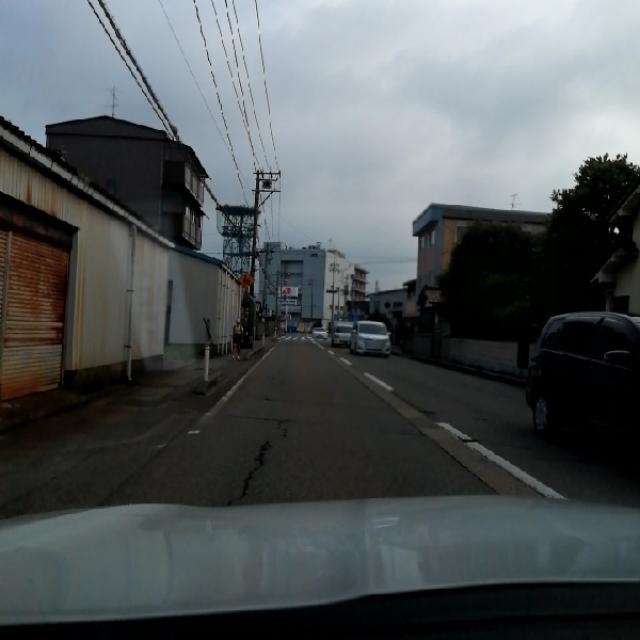pothole: (249, 399, 307, 496)
